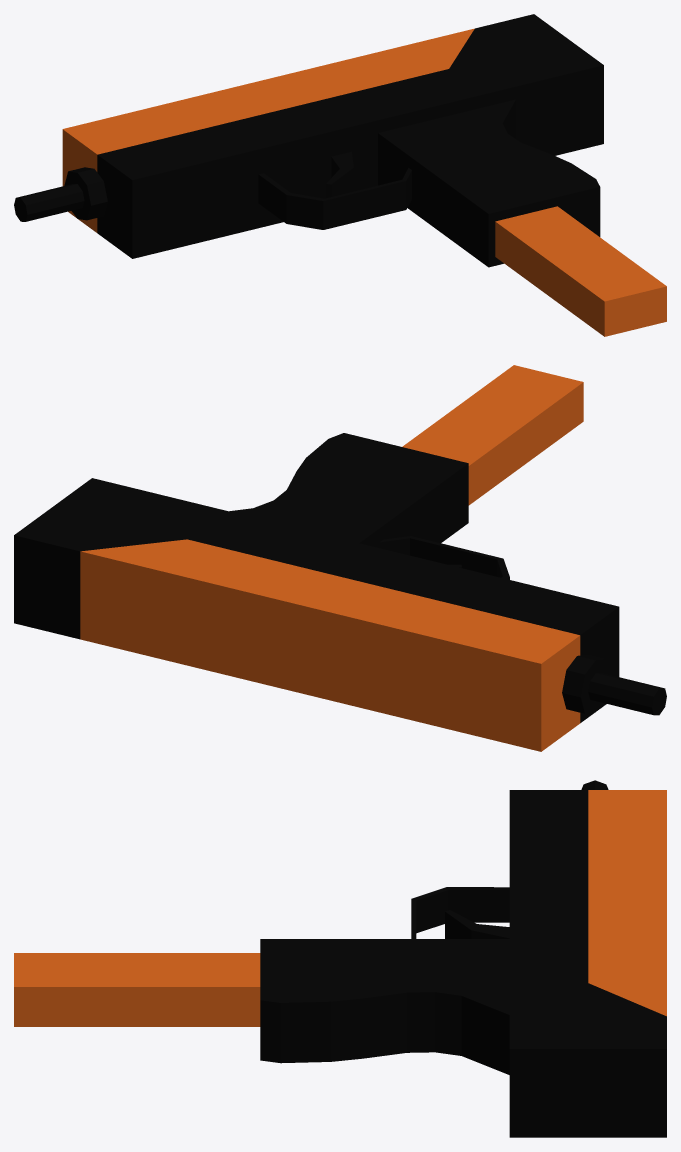
The model's file is uzi.fbx.
3 views of the same model, one above another, from view 1: azimuth 30°, elevation 25°; view 2: azimuth 150°, elevation 25°; view 3: azimuth 270°, elevation 25° (orthographic). The views are drawn at different scales.
Parts seen in each view (by area): view 1: Plane.002; view 2: Plane.002; view 3: Plane.002.
Part boxes in pixels (left/top/right/bottom): Plane.002: left=14, top=14, right=666, bottom=336; Plane.002: left=14, top=365, right=666, bottom=751; Plane.002: left=14, top=780, right=666, bottom=1137.
Bounding box in the file's own units: 847 × 117 × 780.
